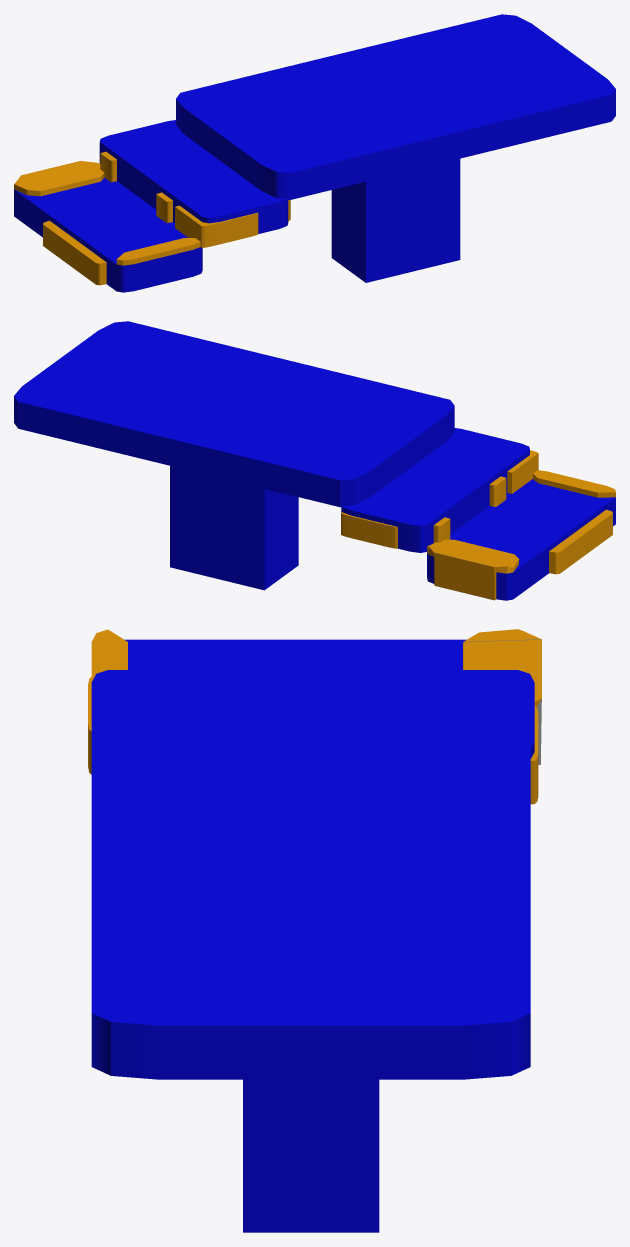
The model's file is Metal_Bridge_Stairs.fbx.
3 renders of one model, top to bottom at view 1: azimuth 30°, elevation 25°; view 2: azimuth 150°, elevation 25°; view 3: azimuth 270°, elevation 25°, orthographic. The views are drawn at different scales.
Visible parts, largest first — view 1: Metal_Bridge_Stairs; view 2: Metal_Bridge_Stairs; view 3: Metal_Bridge_Stairs.
Part boxes in pixels (left/top/right/bottom): Metal_Bridge_Stairs: left=14, top=14, right=615, bottom=292; Metal_Bridge_Stairs: left=14, top=321, right=615, bottom=600; Metal_Bridge_Stairs: left=88, top=629, right=541, bottom=1232.
Size of the model in its own units: 490 by 151 by 188.
